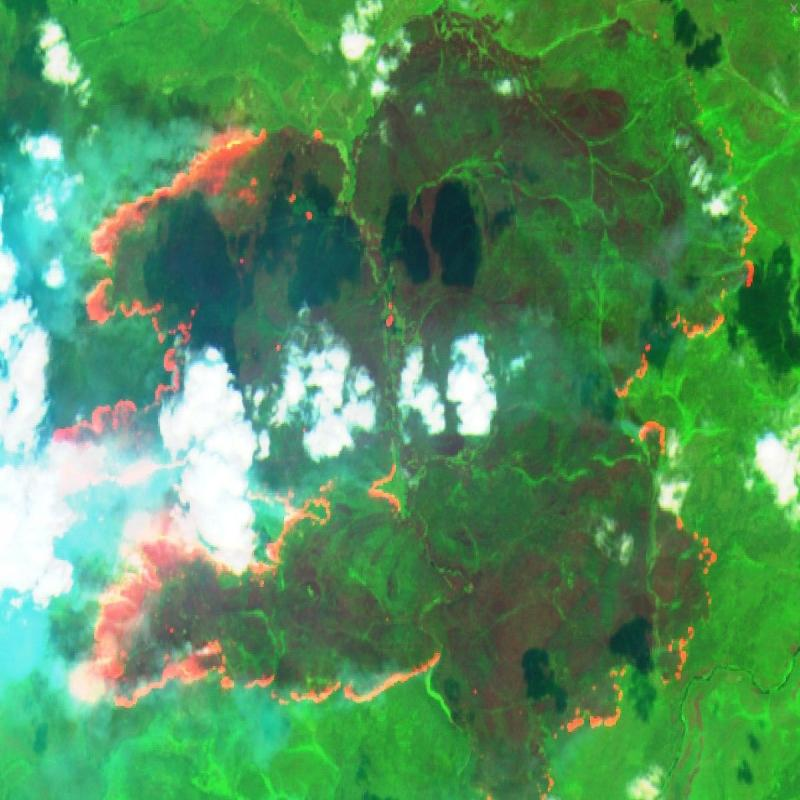fire: (0, 90, 800, 754)
